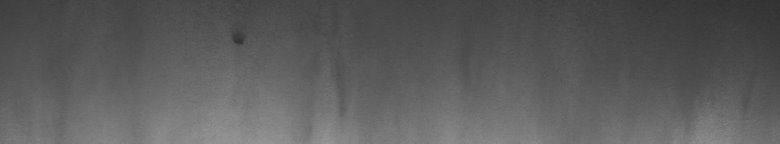fi: (225, 32, 248, 52)
